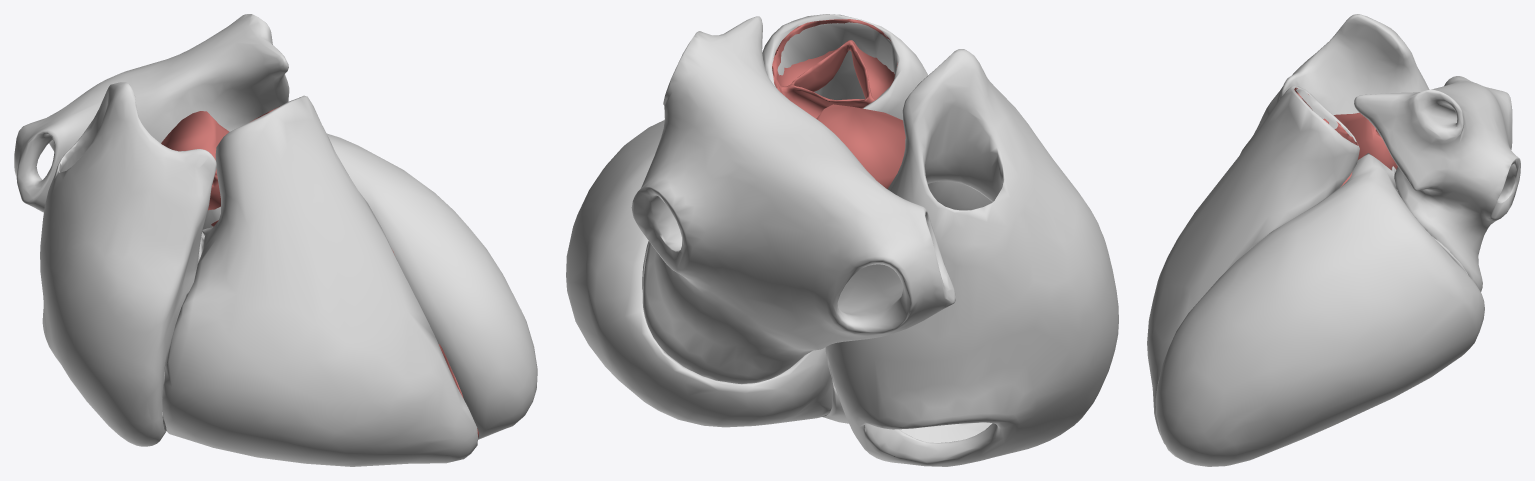
Rendered from vh_m_heart-20.fbx.
3 views of the same model, side by side, from view 1: azimuth 30°, elevation 25°; view 2: azimuth 150°, elevation 25°; view 3: azimuth 270°, elevation 25° (orthographic). The views are drawn at different scales.
Visible parts, largest first — view 1: VH_M_heart_right_ventricle, VH_M_right_cardiac_atrium, VH_M_heart_left_ventricle, VH_M_left_cardiac_atrium, VH_M_aortic_valve; view 2: VH_M_left_cardiac_atrium, VH_M_right_cardiac_atrium, VH_M_heart_left_ventricle, VH_M_heart_right_ventricle, VH_M_pulmonary_valve, VH_M_aortic_valve; view 3: VH_M_heart_left_ventricle, VH_M_heart_right_ventricle, VH_M_left_cardiac_atrium, VH_M_right_cardiac_atrium, VH_M_aortic_valve.
Part boxes in pixels (box(x1,y1,x2,y2)): VH_M_heart_right_ventricle: box(162, 95, 477, 466); VH_M_right_cardiac_atrium: box(40, 82, 216, 446); VH_M_heart_left_ventricle: box(202, 133, 537, 439); VH_M_left_cardiac_atrium: box(14, 14, 289, 212); VH_M_aortic_valve: box(161, 111, 229, 210); VH_M_left_cardiac_atrium: box(631, 16, 955, 384); VH_M_right_cardiac_atrium: box(825, 49, 1118, 466); VH_M_heart_left_ventricle: box(566, 120, 833, 427); VH_M_heart_right_ventricle: box(762, 14, 928, 423); VH_M_pulmonary_valve: box(772, 19, 897, 118); VH_M_aortic_valve: box(816, 104, 905, 188); VH_M_heart_left_ventricle: box(1155, 153, 1484, 466); VH_M_heart_right_ventricle: box(1147, 86, 1359, 443); VH_M_left_cardiac_atrium: box(1354, 76, 1520, 291); VH_M_right_cardiac_atrium: box(1240, 14, 1429, 154); VH_M_aortic_valve: box(1334, 112, 1397, 169).
Size of the model in its own units: 12.43 by 10.54 by 10.53.
